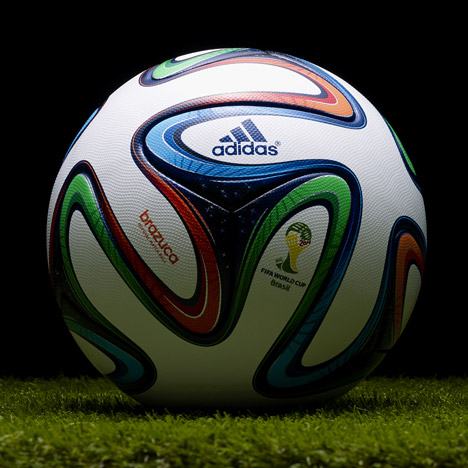football: (43, 45, 433, 413)
